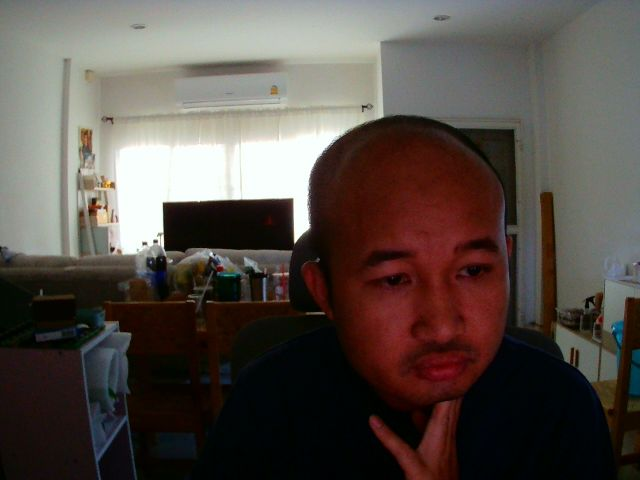face: (309, 107, 503, 412)
